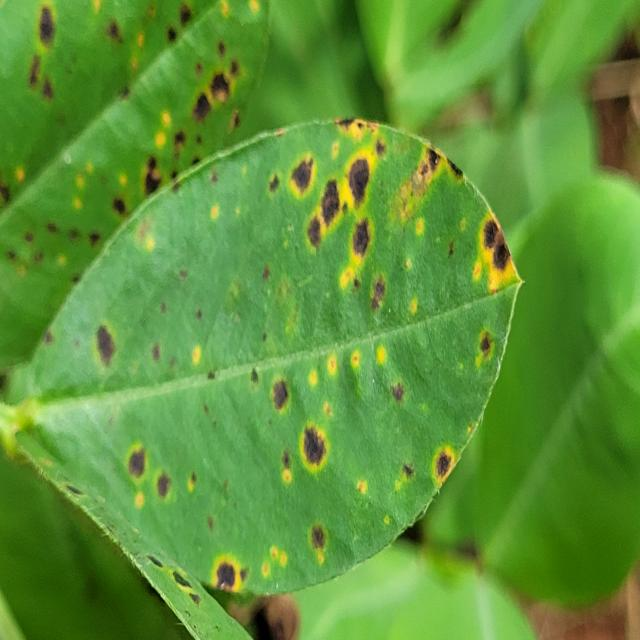Ground nut_tikka leaf spot: (24, 122, 520, 596)
